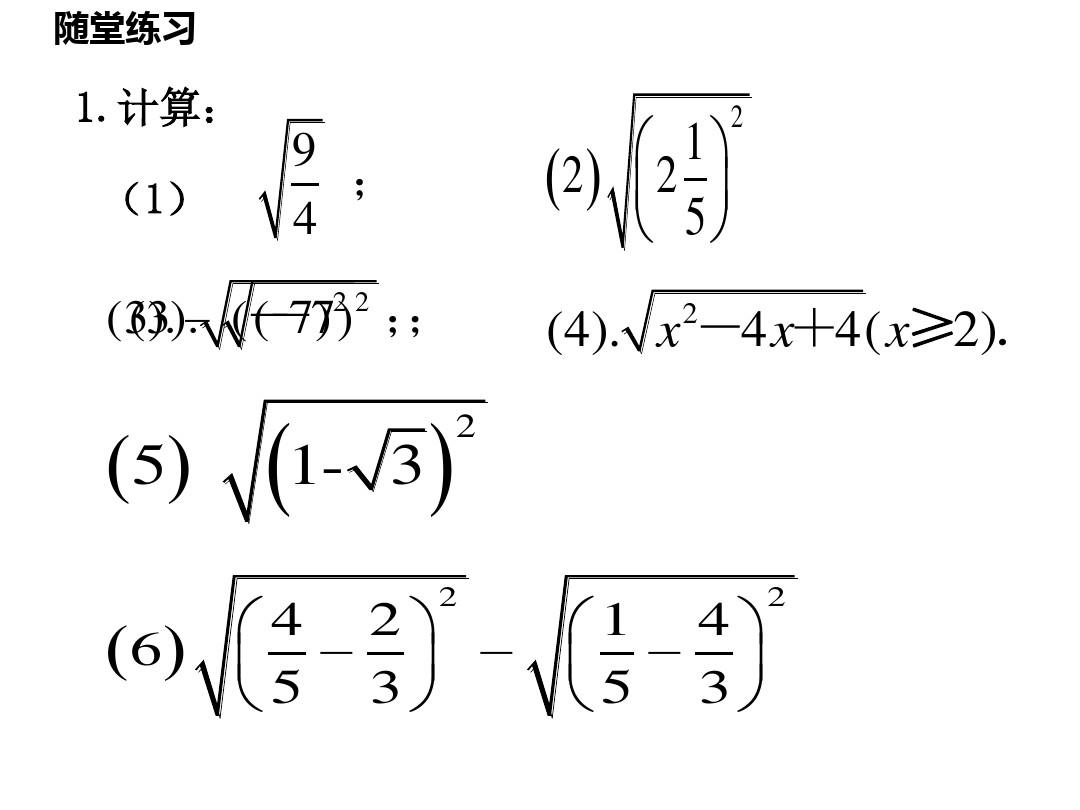division: (285, 175, 320, 195), (599, 644, 636, 662), (693, 646, 732, 662), (266, 647, 304, 663), (367, 647, 403, 663), (686, 173, 707, 187)
sqrt: (538, 547, 825, 736), (198, 568, 476, 720), (217, 389, 494, 522), (608, 72, 764, 257), (201, 262, 405, 357), (633, 284, 864, 360), (262, 99, 332, 247)
square: (454, 408, 473, 443), (352, 290, 373, 318), (726, 103, 744, 131), (437, 585, 457, 610), (767, 586, 786, 609), (680, 298, 695, 326), (335, 289, 343, 313)
